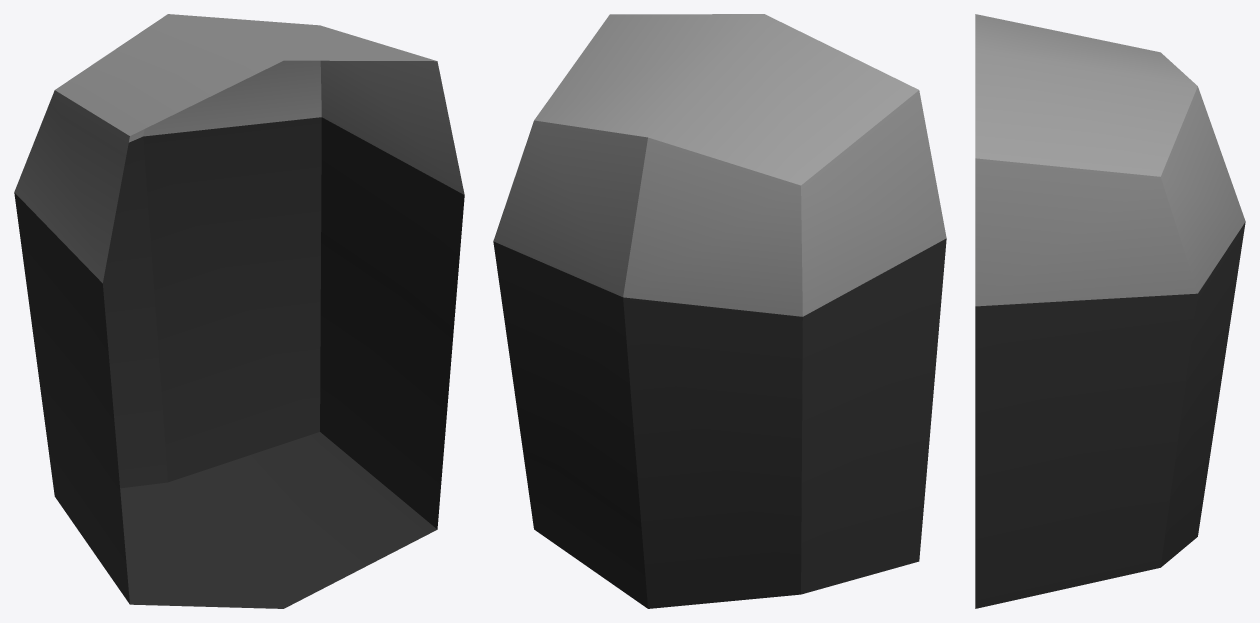
The model's file is Mouse 01.FBX.
The picture shows the model from 3 angles, left to right: view 1: azimuth 30°, elevation 25°; view 2: azimuth 150°, elevation 25°; view 3: azimuth 270°, elevation 25°; orthographic projection. The views are drawn at different scales.
Visible parts, largest first — view 1: Mouse 01; view 2: Mouse 01; view 3: Mouse 01.
Boxes of the visible parts, x1,y1,x2,y2 form: Mouse 01: [14, 14, 464, 608]; Mouse 01: [493, 14, 946, 608]; Mouse 01: [975, 14, 1245, 608].
Size of the model in its own units: 16.72 by 24.2 by 11.24.
Materials: 1 (1 with a texture image).
